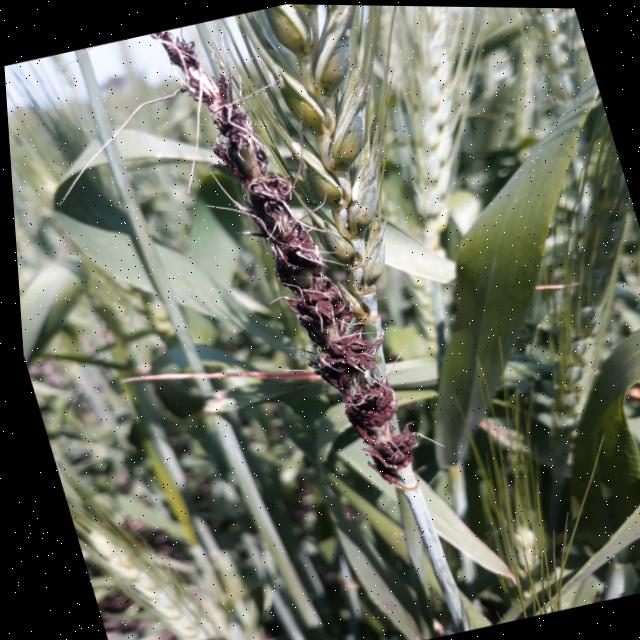loose_charred: (87, 1, 470, 559)
